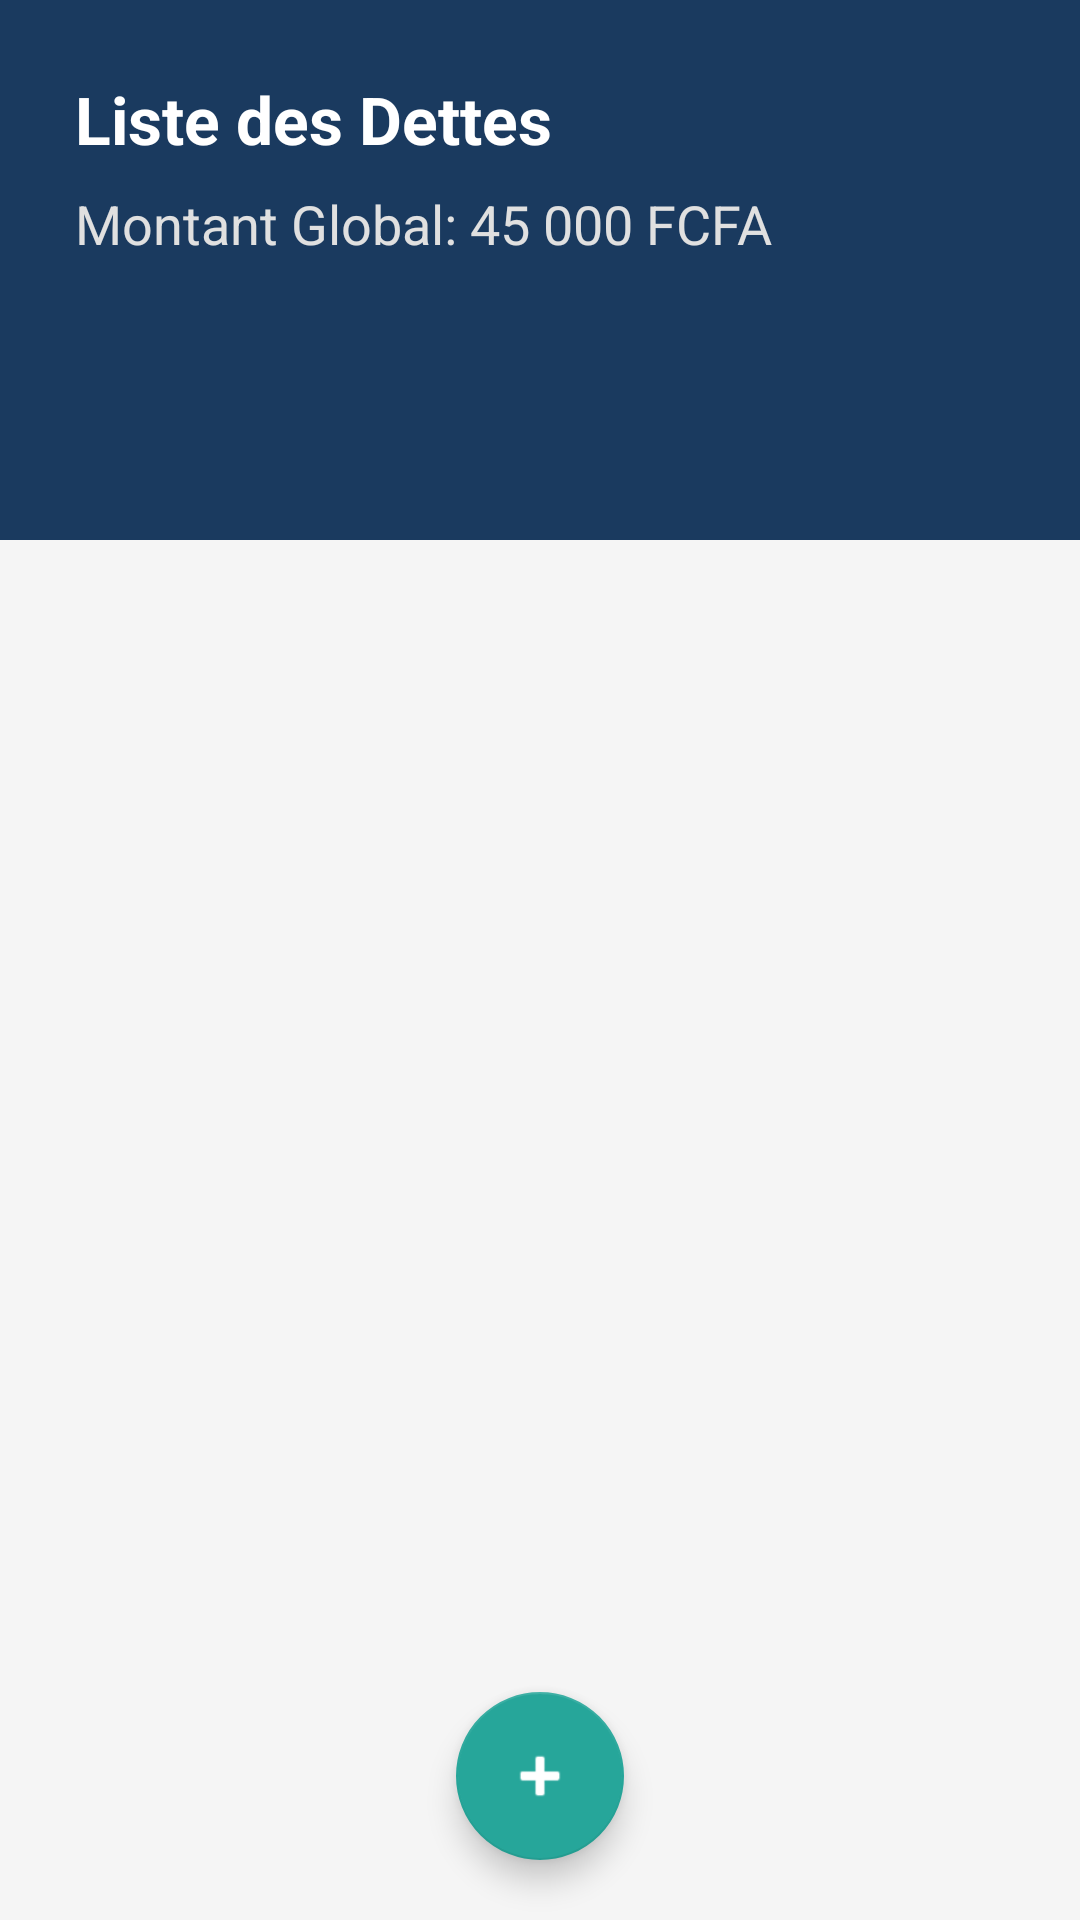

Locate icon controls on the screen. Image size 1080px x 1920px, boxes as bbox=(x1, y1, x2, y2).
add: bbox=(456, 1692, 624, 1860)
